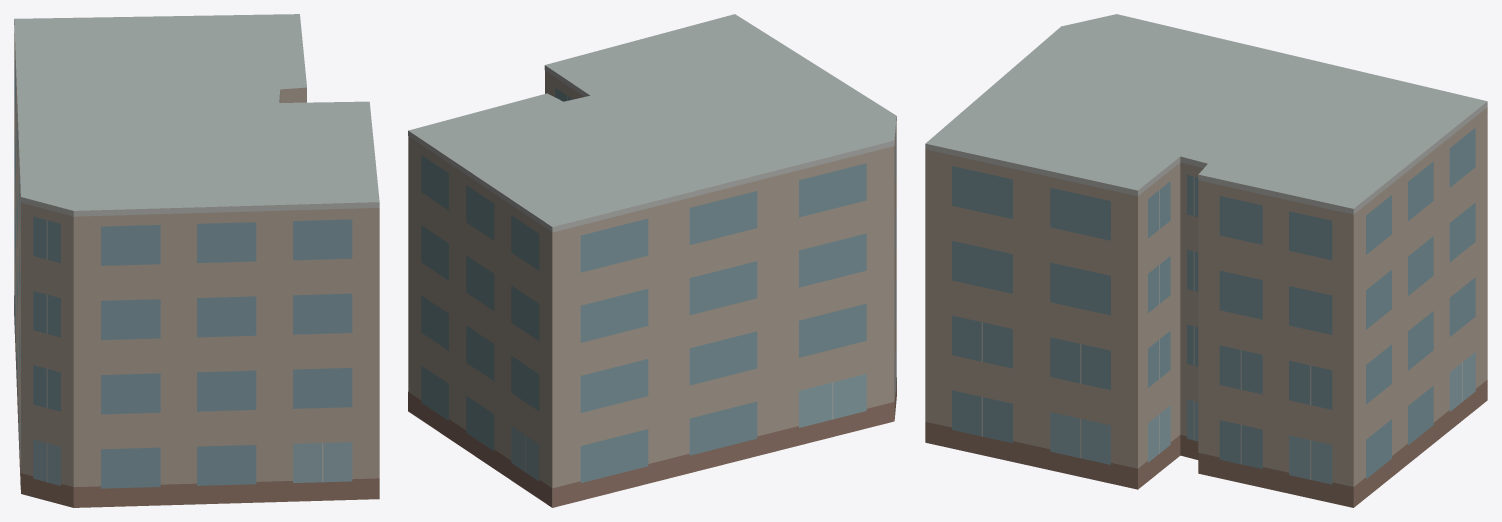
File: survey-upis-32632136.glb
3 renders of one model, left to right at view 1: azimuth 30°, elevation 25°; view 2: azimuth 150°, elevation 25°; view 3: azimuth 270°, elevation 25°, orthographic. The views are drawn at different scales.
Parts seen in each view (by area): view 1: survey-upis-32632136.tmp; view 2: survey-upis-32632136.tmp; view 3: survey-upis-32632136.tmp.
Boxes of the visible parts, bbox=[...] form: survey-upis-32632136.tmp: bbox=[14, 14, 379, 507]; survey-upis-32632136.tmp: bbox=[408, 14, 896, 507]; survey-upis-32632136.tmp: bbox=[925, 14, 1487, 507].
Size of the model in its own units: 17.76 by 12.7 by 21.66.
